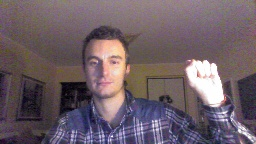Pugno: (180, 57, 224, 100)
